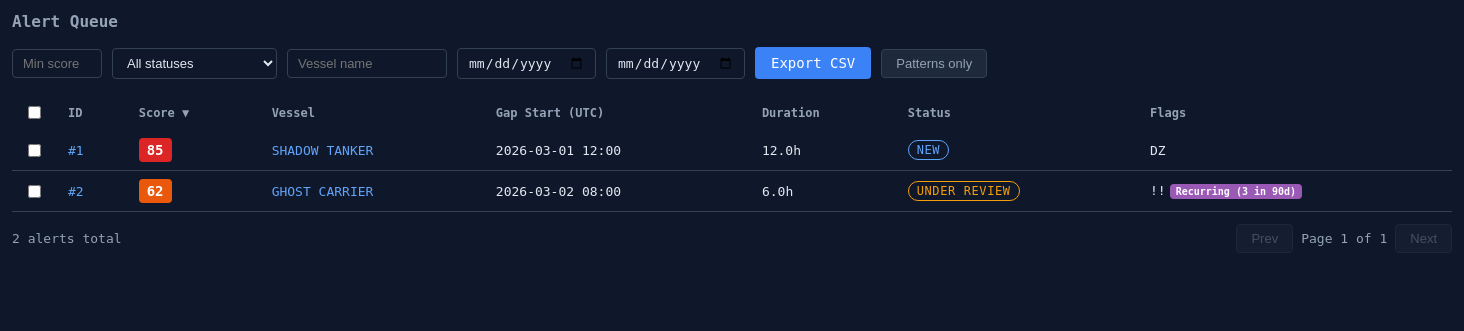
it: AlertList interaction › allows selecting alerts with checkboxes
Click individual checkbox for first alert
Click the checkbox in the row of "85": {"x": 34, "y": 150} [28,144,41,156]
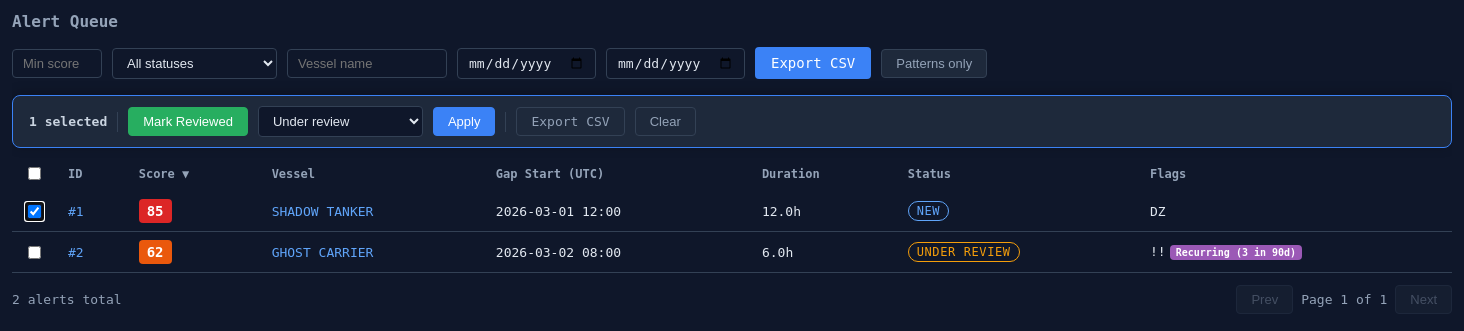
Expected: the text "1 selected" is shown, [29,114,107,129]
